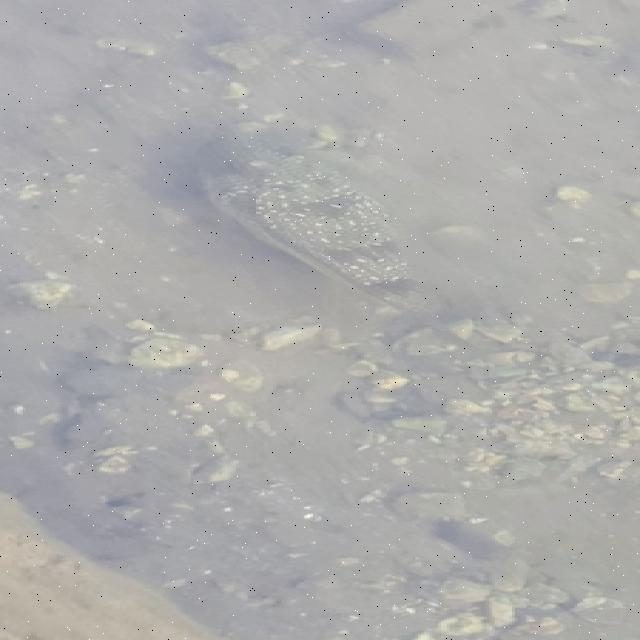Balik: (205, 123, 426, 309)
